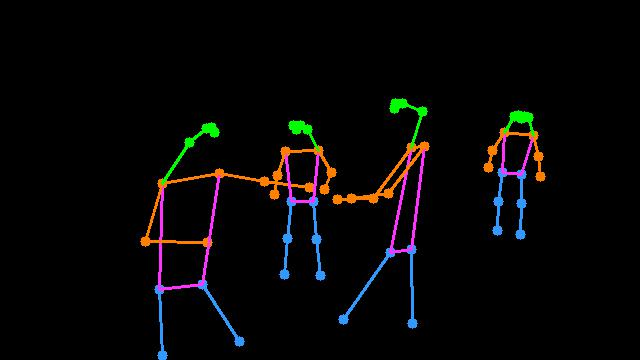normal: (261, 114, 339, 288), (476, 107, 548, 245)
